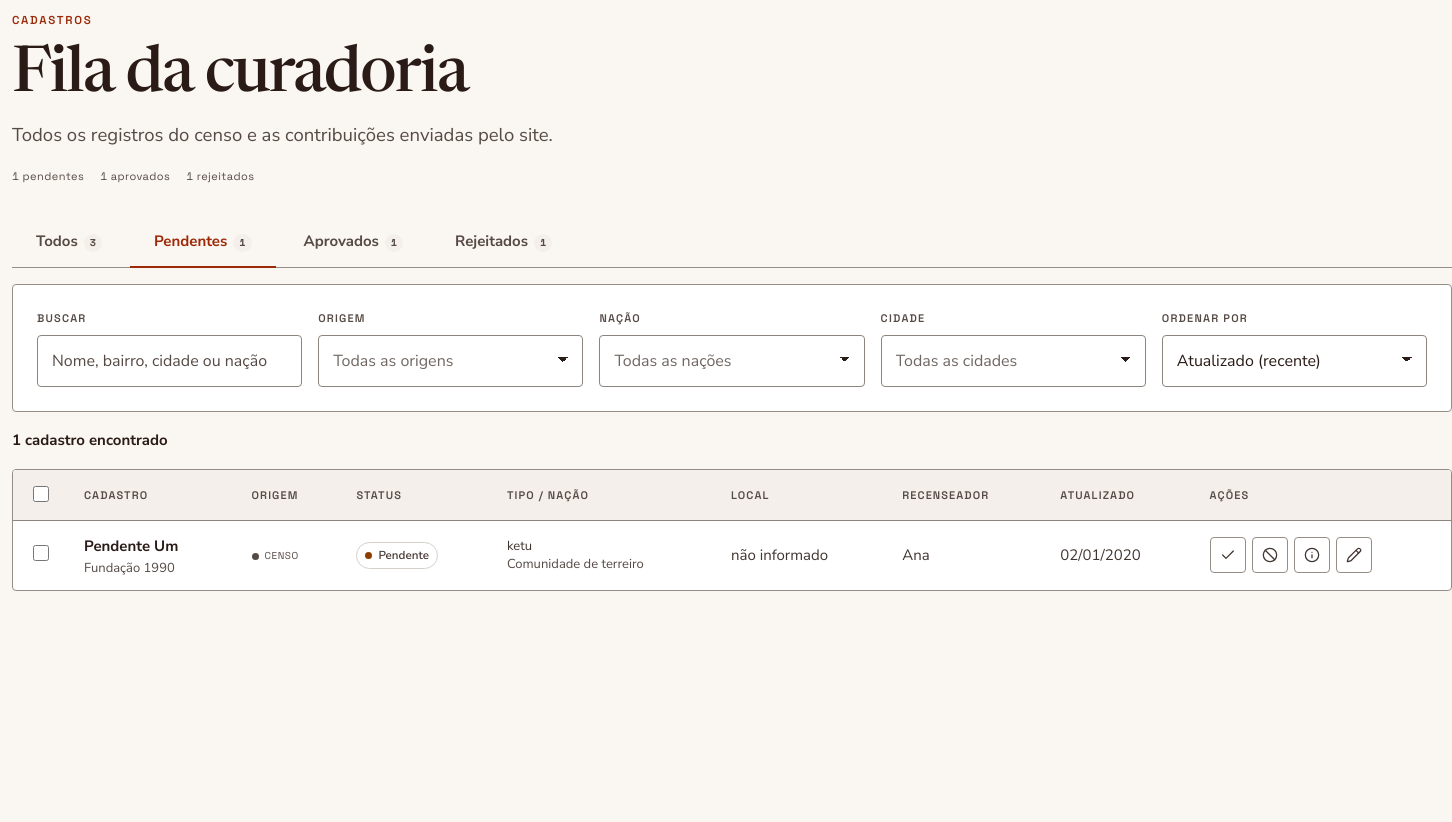
AdminRecords › aprova em lote os pendentes selecionados
Expected: the link "Pendente Um" is shown, [84,536,178,556]
Click the checkbox named "Selecionar Pendente Um".
click(41, 553)  # box [33,545,49,561]
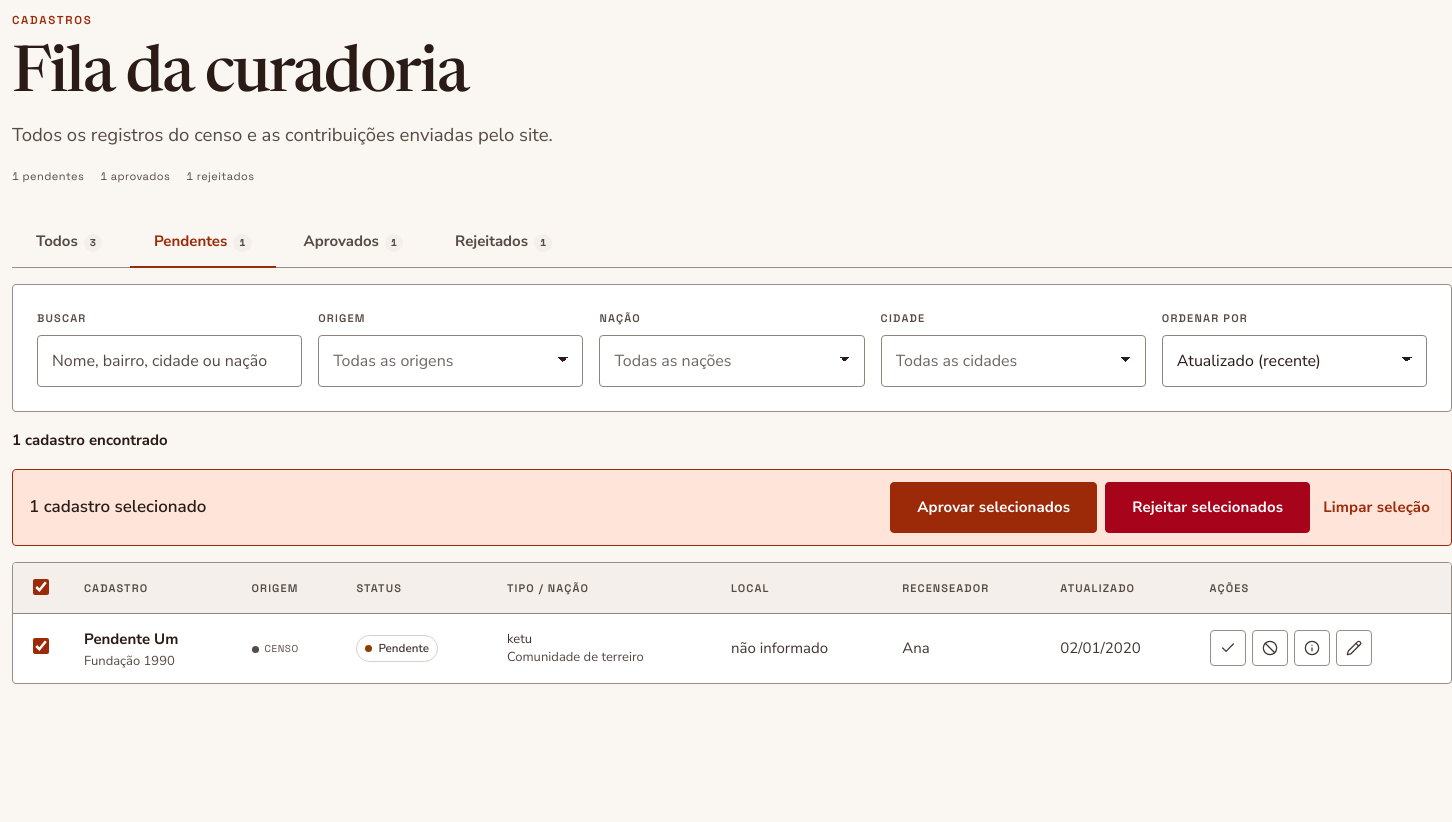
Now the element named "Ações em lote" is shown, box [12,469,1451,546]
Click the button "Aprovar selecionados".
click(994, 507)  # box [890,482,1097,533]
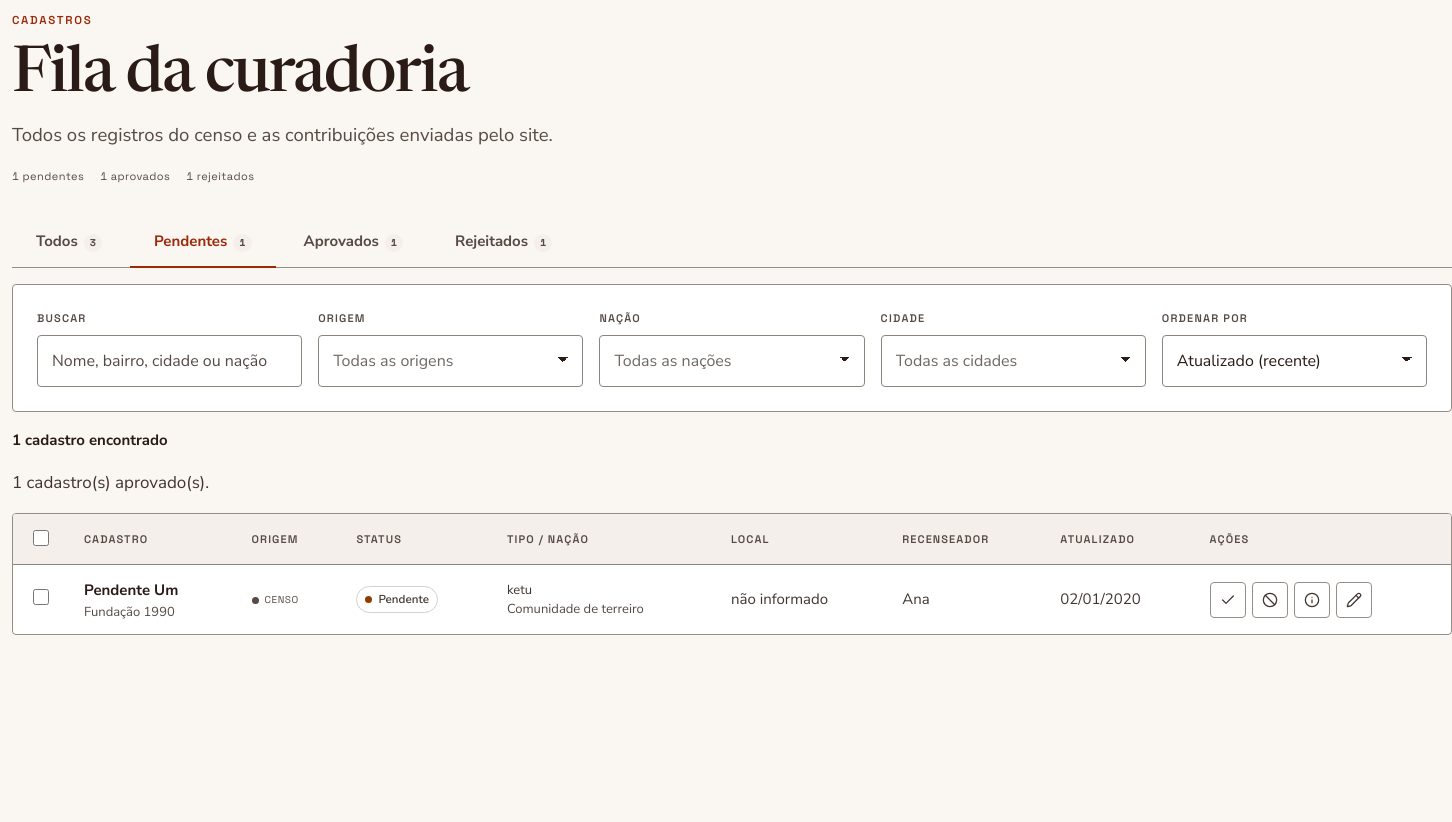
Now the message reads "1 cadastro(s) aprovado(s).", box [12,471,209,494]
